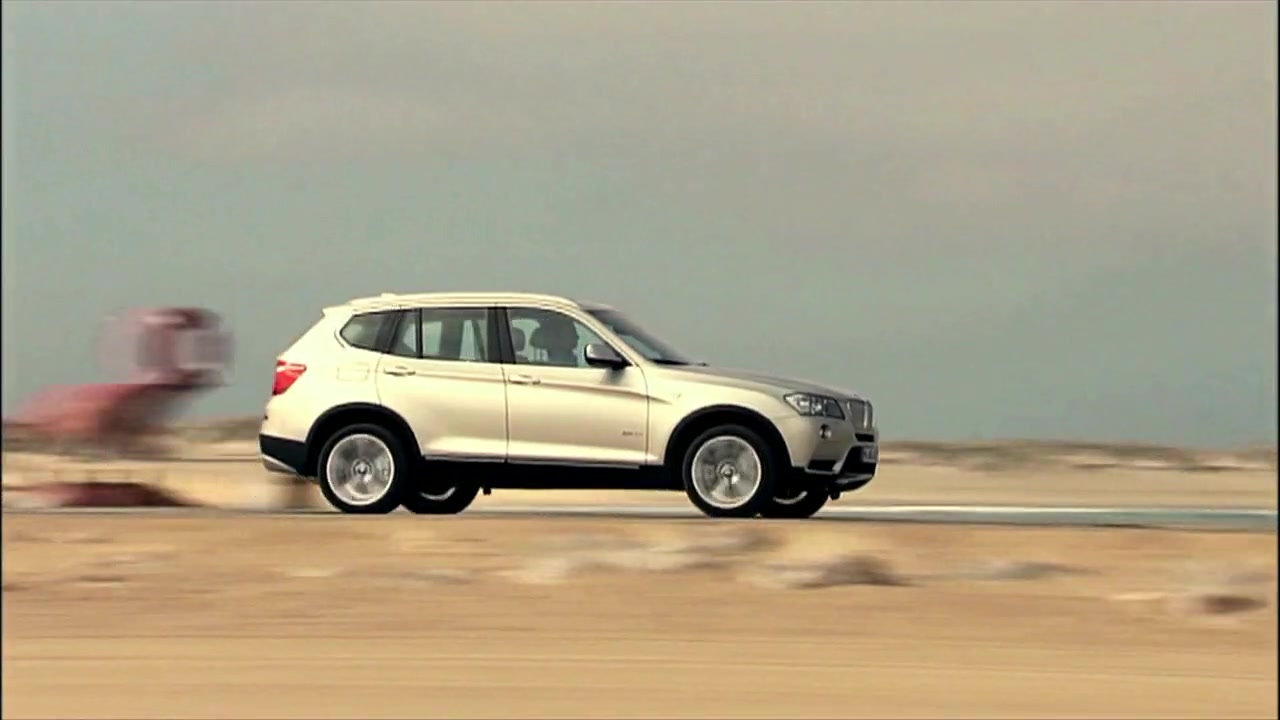car: (250, 290, 883, 524)
